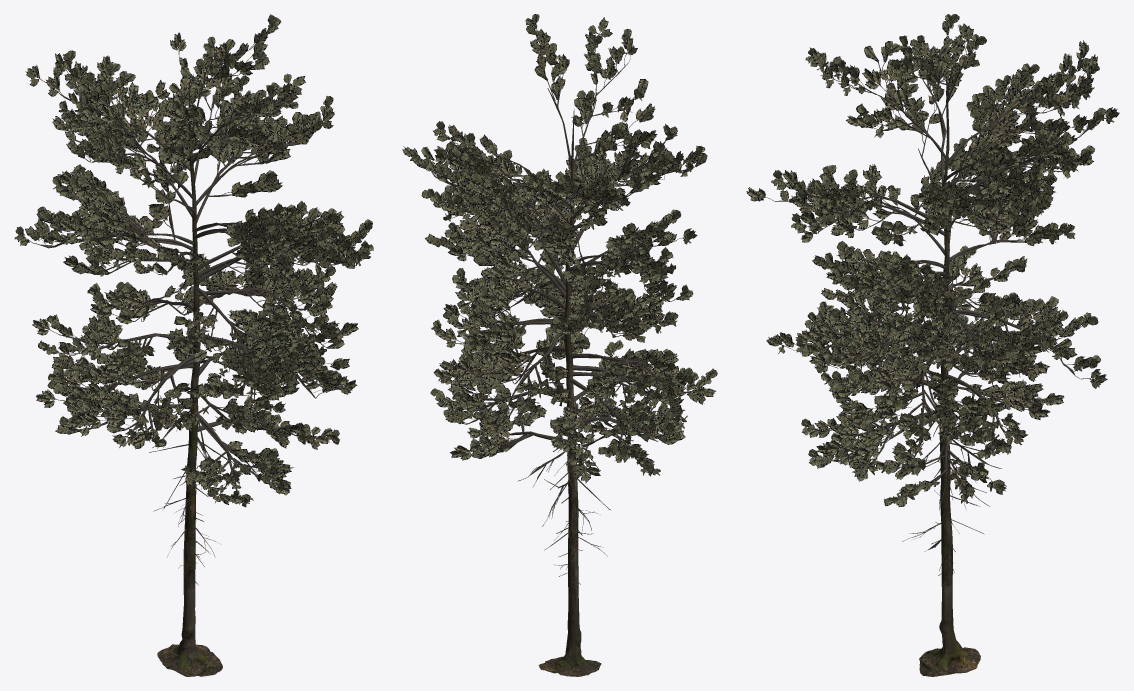
Rendered from pine_tree_01_b_LOD1.glb.
3 renders of one model, left to right at view 1: azimuth 30°, elevation 25°; view 2: azimuth 150°, elevation 25°; view 3: azimuth 270°, elevation 25°, orthographic. The views are drawn at different scales.
Visible parts, largest first — view 1: pine_tree_01_b_LOD1__lod1, pine_tree_01_b_LOD1__lod2; view 2: pine_tree_01_b_LOD1__lod1, pine_tree_01_b_LOD1__lod2; view 3: pine_tree_01_b_LOD1__lod1, pine_tree_01_b_LOD1__lod2.
Part boxes in pixels (x1=…): pine_tree_01_b_LOD1__lod1: x1=14, y1=15, x2=373, y2=676; pine_tree_01_b_LOD1__lod2: x1=14, y1=14, x2=373, y2=676; pine_tree_01_b_LOD1__lod1: x1=402, y1=14, x2=717, y2=676; pine_tree_01_b_LOD1__lod2: x1=404, y1=15, x2=717, y2=676; pine_tree_01_b_LOD1__lod1: x1=746, y1=14, x2=1116, y2=676; pine_tree_01_b_LOD1__lod2: x1=749, y1=14, x2=1119, y2=676.
Size of the model in its own units: 7.22 by 14.89 by 7.62.
3 materials, 3 textured.
